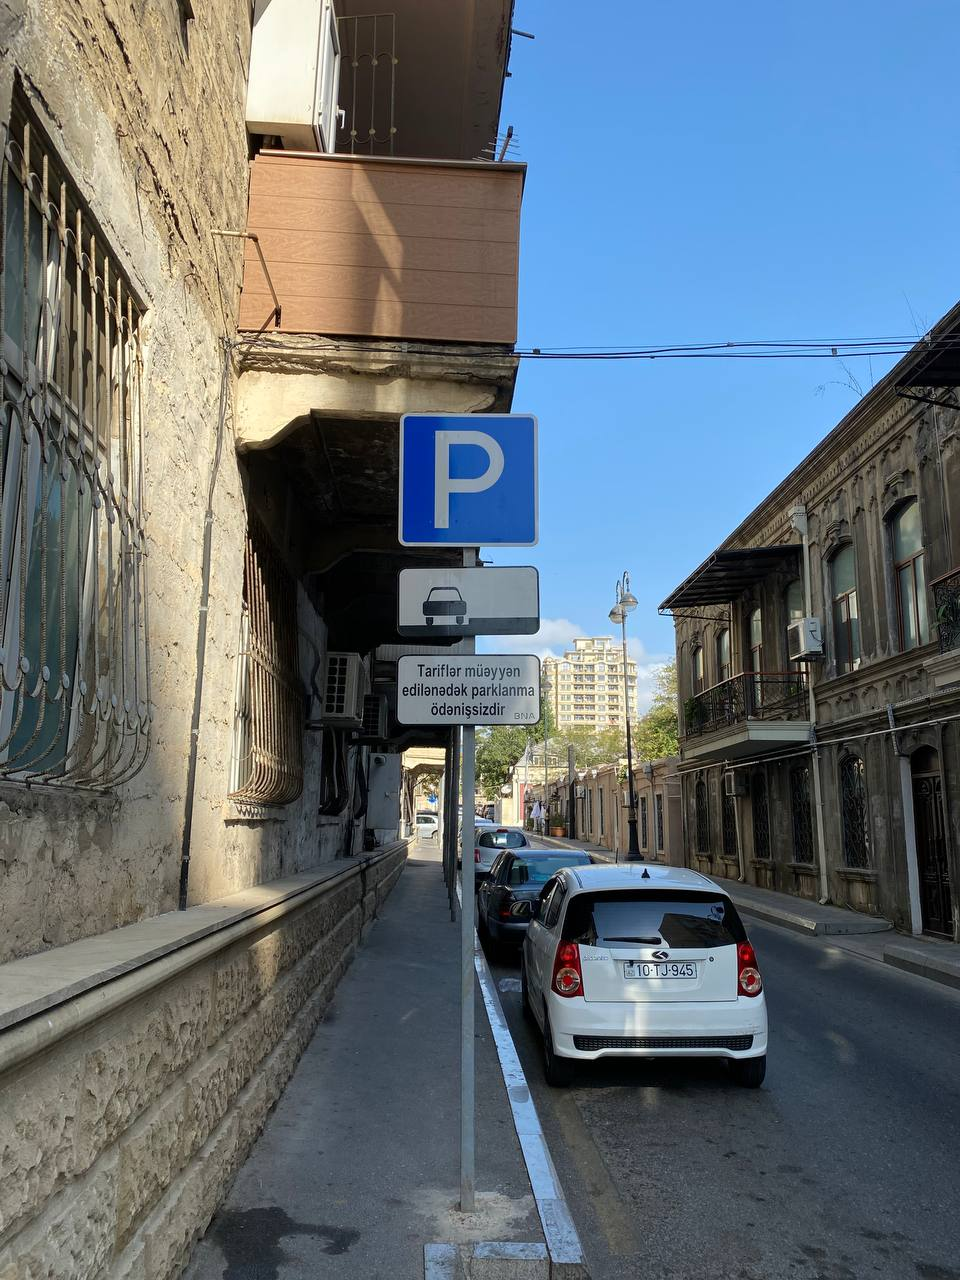Parking-Sign: (400, 412, 541, 548)
